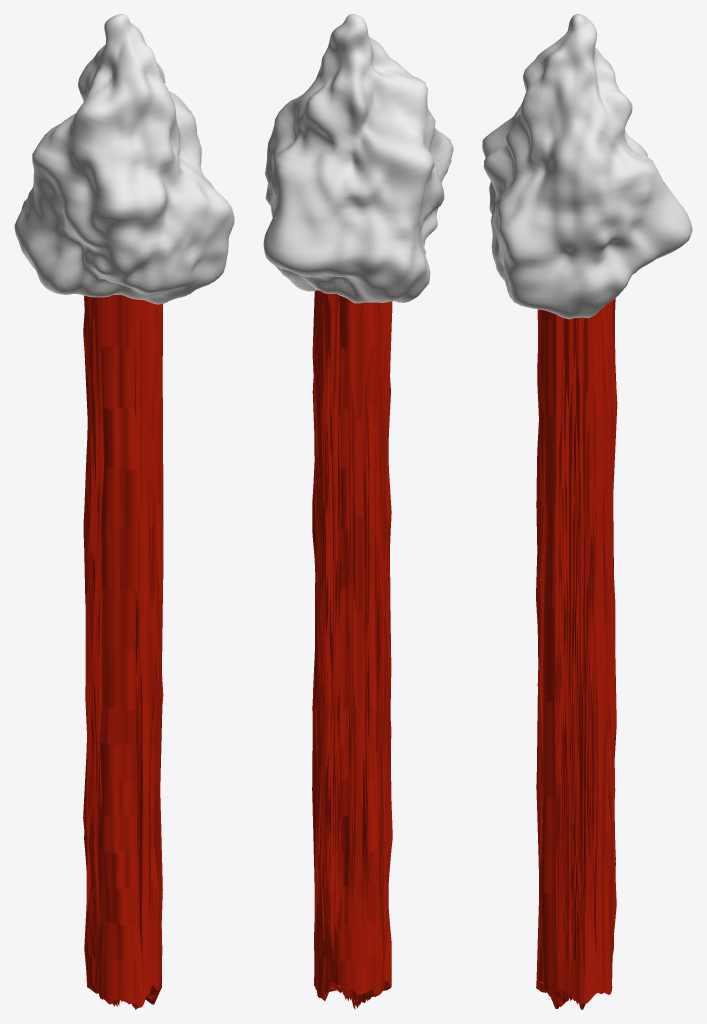
Rendered from torch 2.fbx.
The picture shows the model from 3 angles, left to right: view 1: azimuth 30°, elevation 25°; view 2: azimuth 150°, elevation 25°; view 3: azimuth 270°, elevation 25°; orthographic projection.
Visible parts, largest first — view 1: Cylinder, Cube; view 2: Cylinder, Cube; view 3: Cylinder, Cube.
Part boxes in pixels (x1,y1,x2,y2): Cylinder: (83, 294, 163, 1009); Cube: (14, 14, 234, 304); Cylinder: (312, 290, 392, 1009); Cube: (263, 14, 453, 303); Cylinder: (536, 298, 617, 1009); Cube: (482, 14, 692, 319).
Bounding box in the file's own units: 61.54 × 353 × 68.38.
